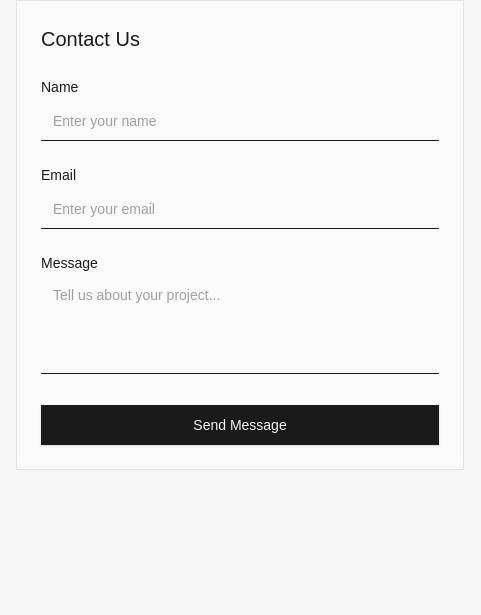
Test: ContactForm › shows error message on failed submission
This screenshot has width=481, height=615.
Click the button "Send Message": [240, 425] box [41, 405, 439, 445]
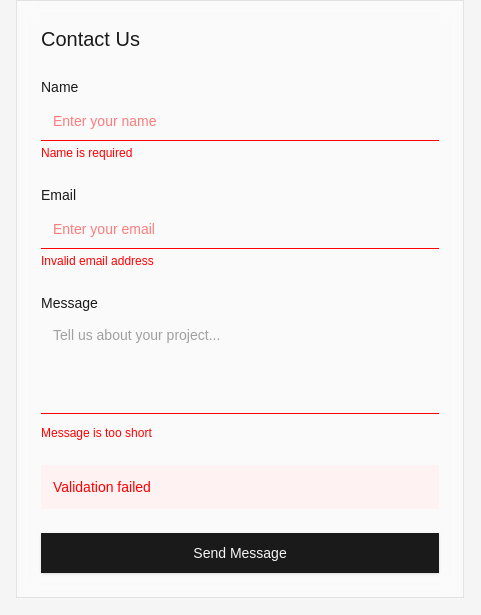
Check: the text "Name is required" is shown, box [41, 146, 132, 160]
Check: the text "Invalid email address" is shown, box [41, 254, 154, 268]
Check: the text "Message is too short" is shown, box [41, 426, 152, 440]
